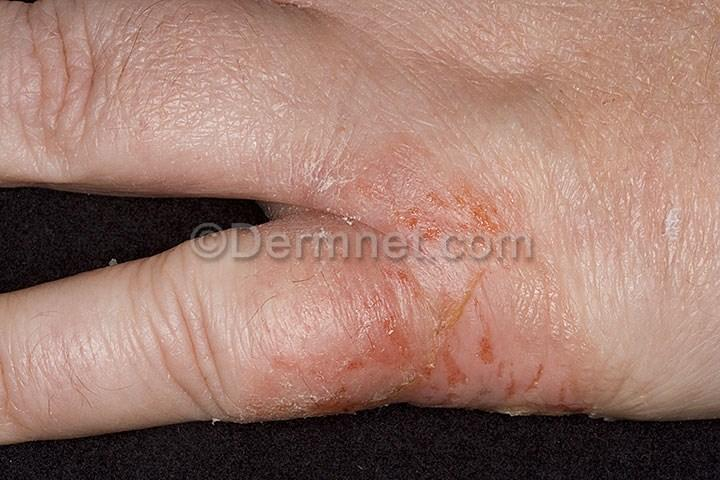Eczema: (293, 300, 524, 424)
